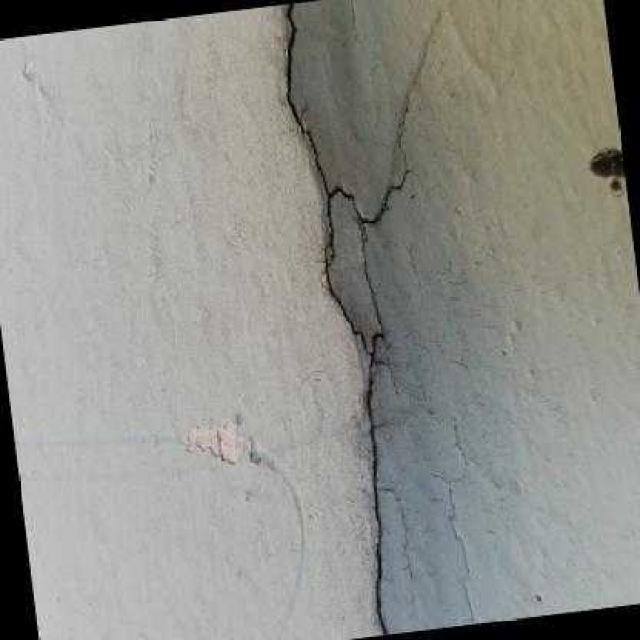D00: (281, 1, 410, 635)
